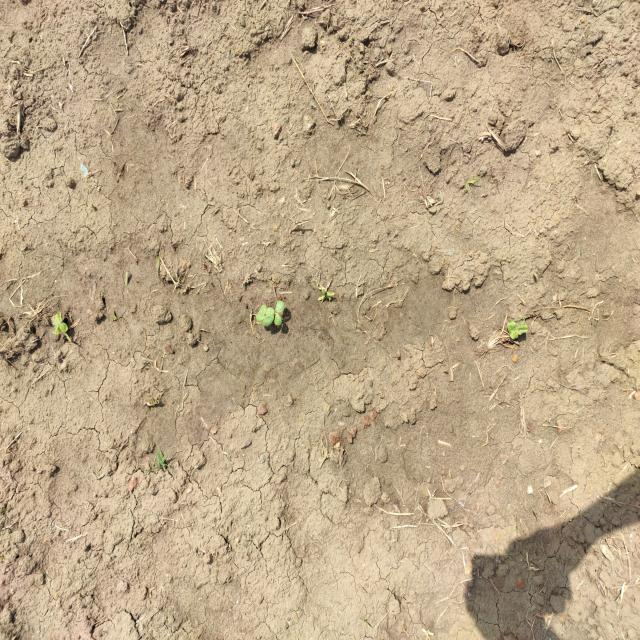seedling_s1: (274, 301, 285, 326), (263, 307, 275, 327), (507, 321, 518, 340), (52, 323, 68, 335), (256, 305, 267, 322), (517, 317, 527, 335), (51, 312, 62, 325)
